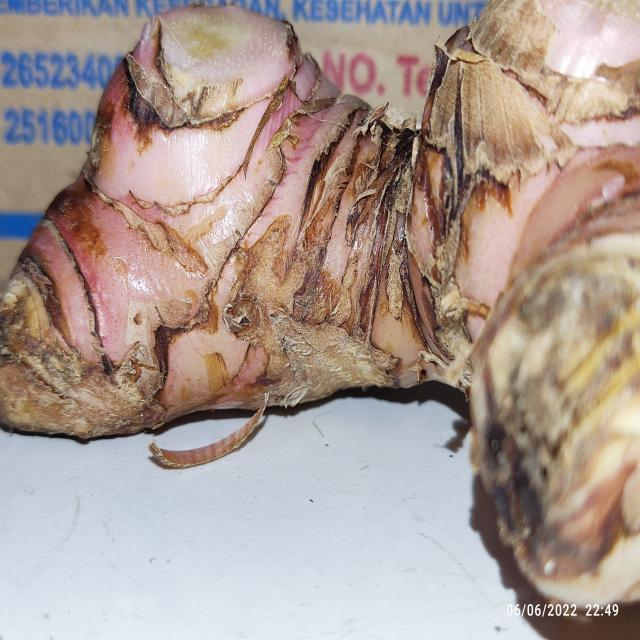ginger: (6, 15, 640, 608)
